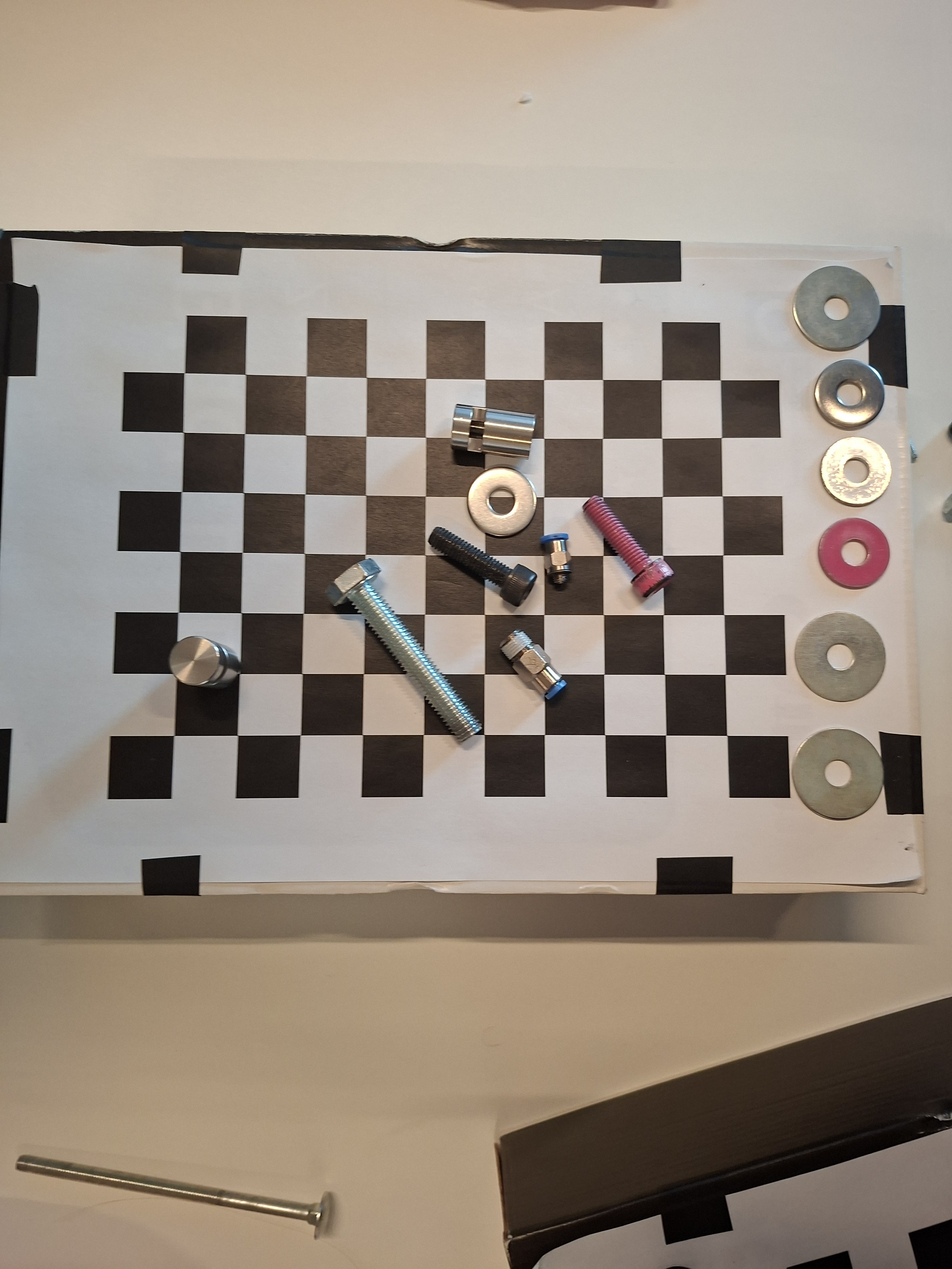allen_screw: (570, 483, 685, 606), (419, 513, 543, 610)
barrel_nut: (440, 401, 539, 466), (162, 626, 246, 702)
hex_bolt: (320, 552, 497, 761)
pneumatic_fitting: (488, 620, 576, 711), (539, 530, 576, 590)
washer: (782, 259, 889, 358), (791, 606, 890, 702), (790, 730, 888, 824), (805, 352, 894, 440), (459, 457, 547, 543), (813, 434, 899, 508), (815, 515, 894, 593)
